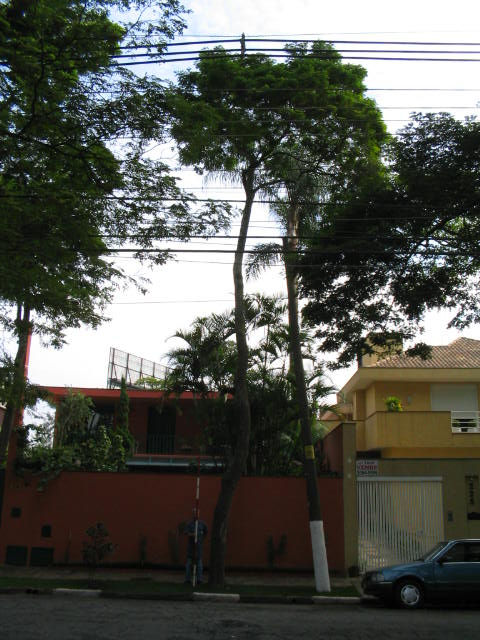crown: (163, 36, 394, 218)
stem: (203, 399, 261, 590)
stick: (188, 456, 205, 587)
tree: (161, 34, 397, 590)
